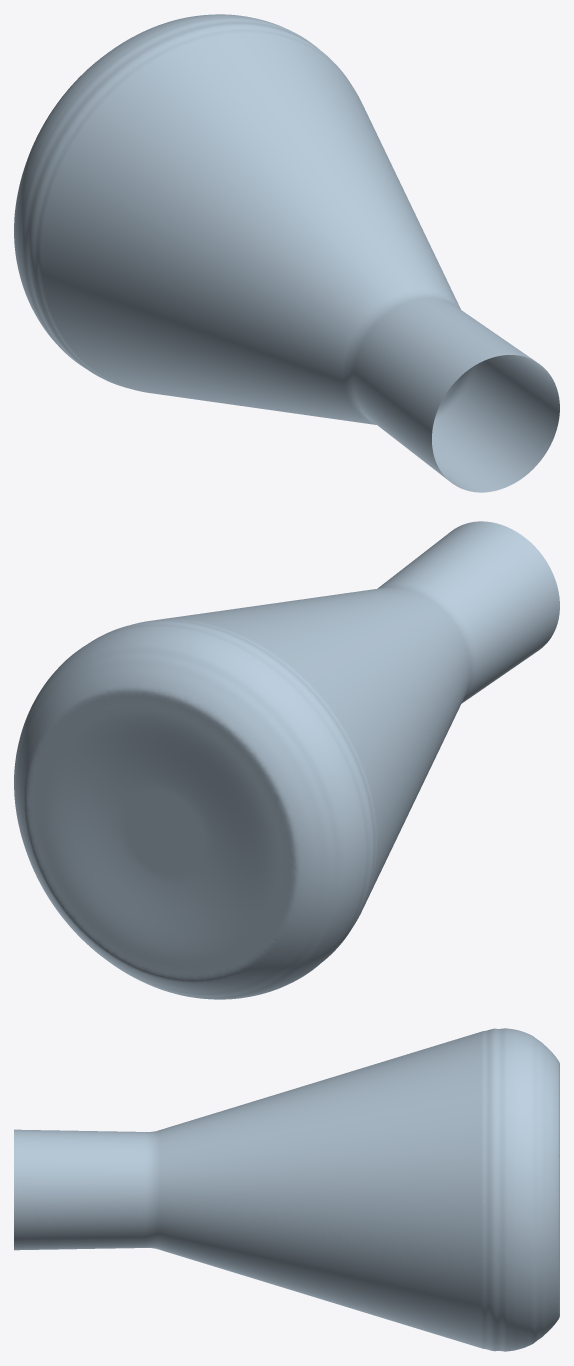
Rendered from plastic-plain.glb.
3 views of the same model, one above another, from view 1: azimuth 30°, elevation 25°; view 2: azimuth 150°, elevation 25°; view 3: azimuth 270°, elevation 25° (orthographic). The views are drawn at different scales.
Visible parts, largest first — view 1: plastic-plain; view 2: plastic-plain; view 3: plastic-plain.
Boxes of the visible parts, left/top/right/bottom form: plastic-plain: left=14, top=14, right=559, bottom=492; plastic-plain: left=14, top=521, right=559, bottom=999; plastic-plain: left=14, top=1028, right=559, bottom=1351.
Bounding box in the file's own units: 0.0803 × 0.0804 × 0.1357.
